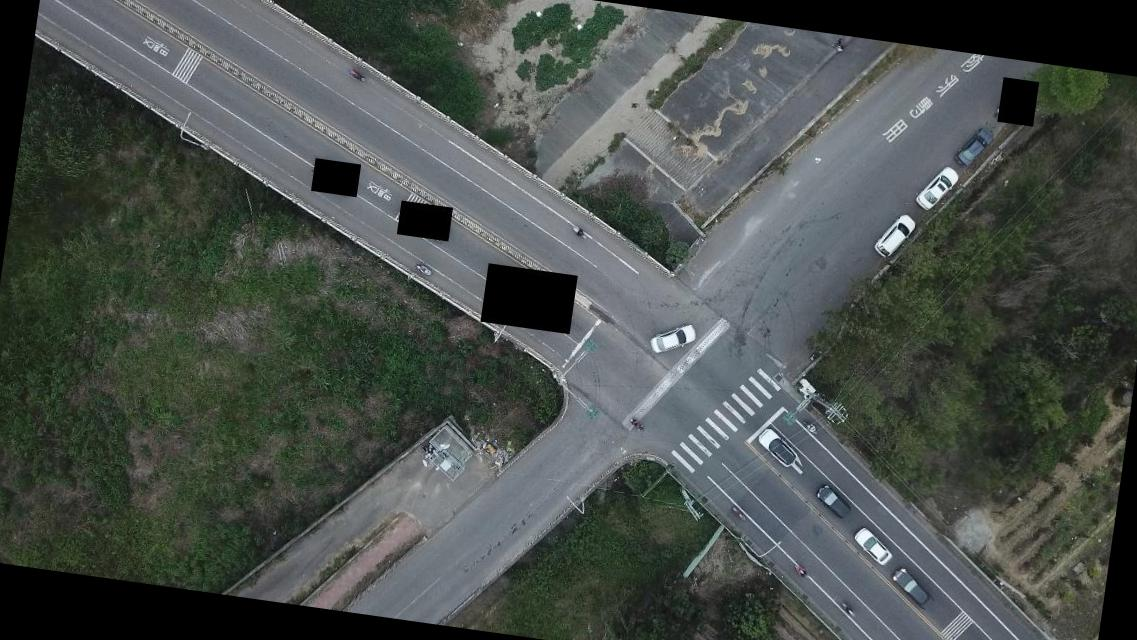vehicle: (915, 162, 960, 214), (872, 214, 920, 262), (648, 317, 696, 358), (891, 566, 937, 607), (851, 528, 896, 568), (954, 128, 996, 170), (756, 429, 799, 468), (812, 484, 853, 521)
